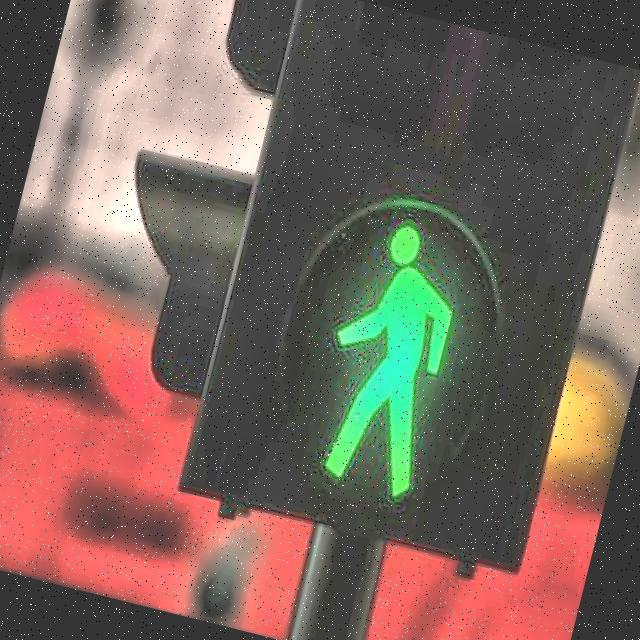green_light: (293, 206, 482, 509)
